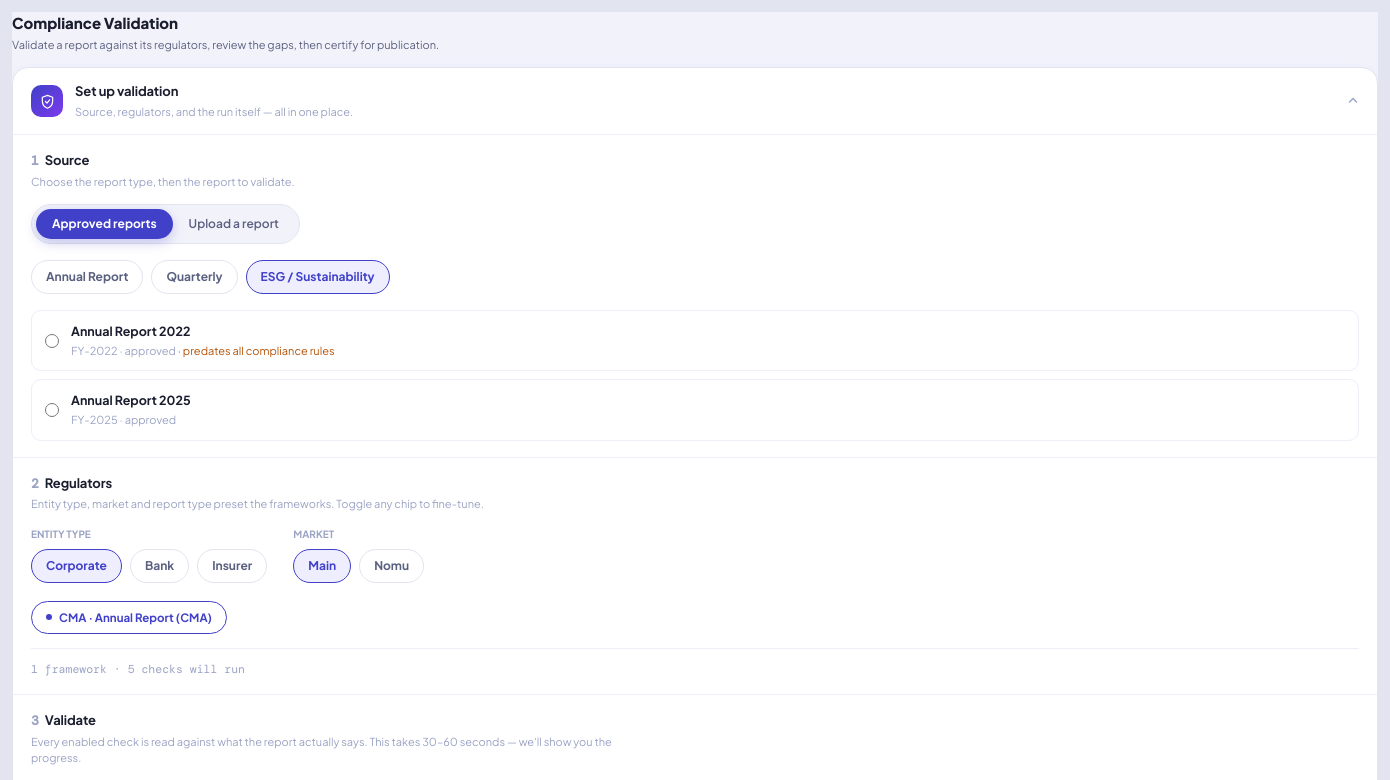
Test: pre-2024 reports get consent, not validation › mirrors the picked subject's period into the pickers
Expected: the text "Annual Report 2022" is shown, top-left (71, 323), bottom-right (190, 339)
Click the radio button labelled "Annual Report 2025 FY-2025 · approved".
click(52, 410)  # box top-left (45, 403), bottom-right (59, 417)
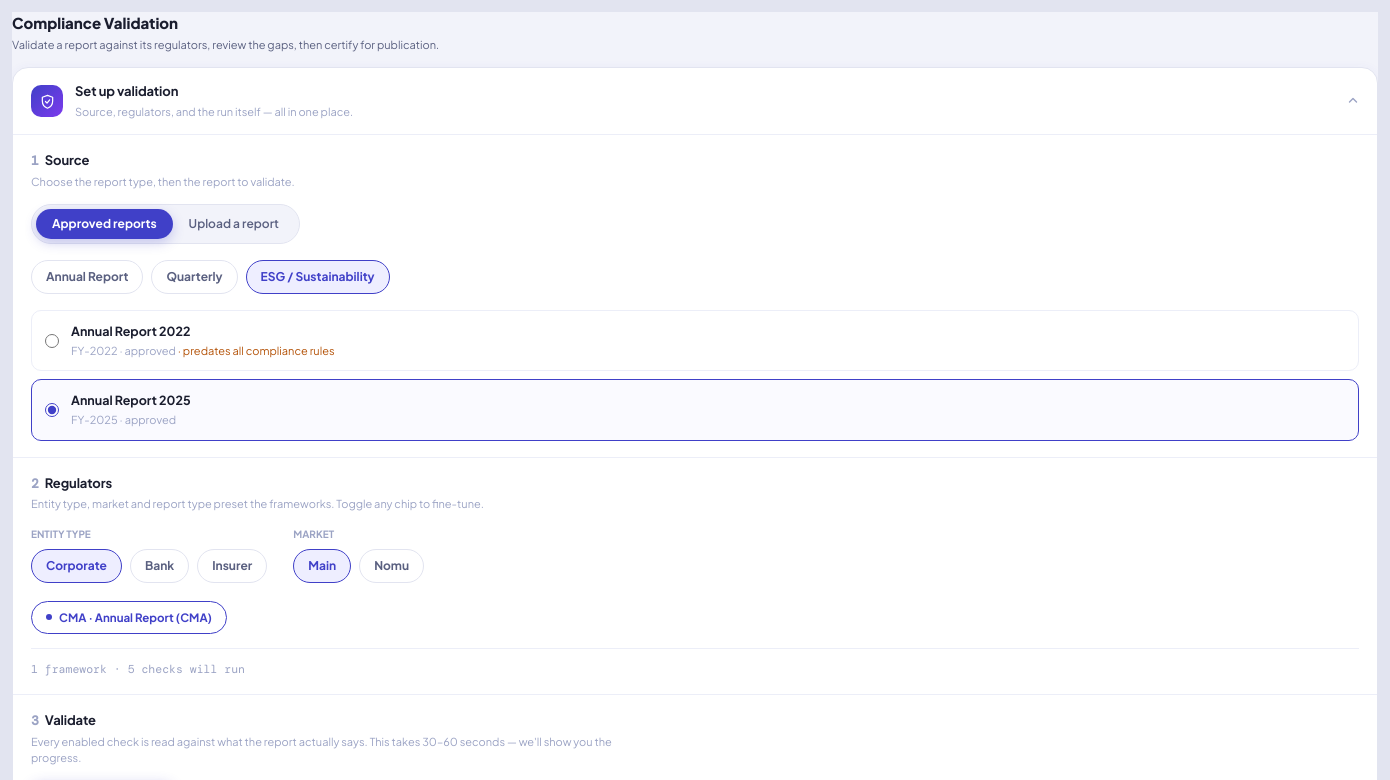
Click the button "Upload a report".
click(234, 224)  # box top-left (173, 209), bottom-right (295, 239)
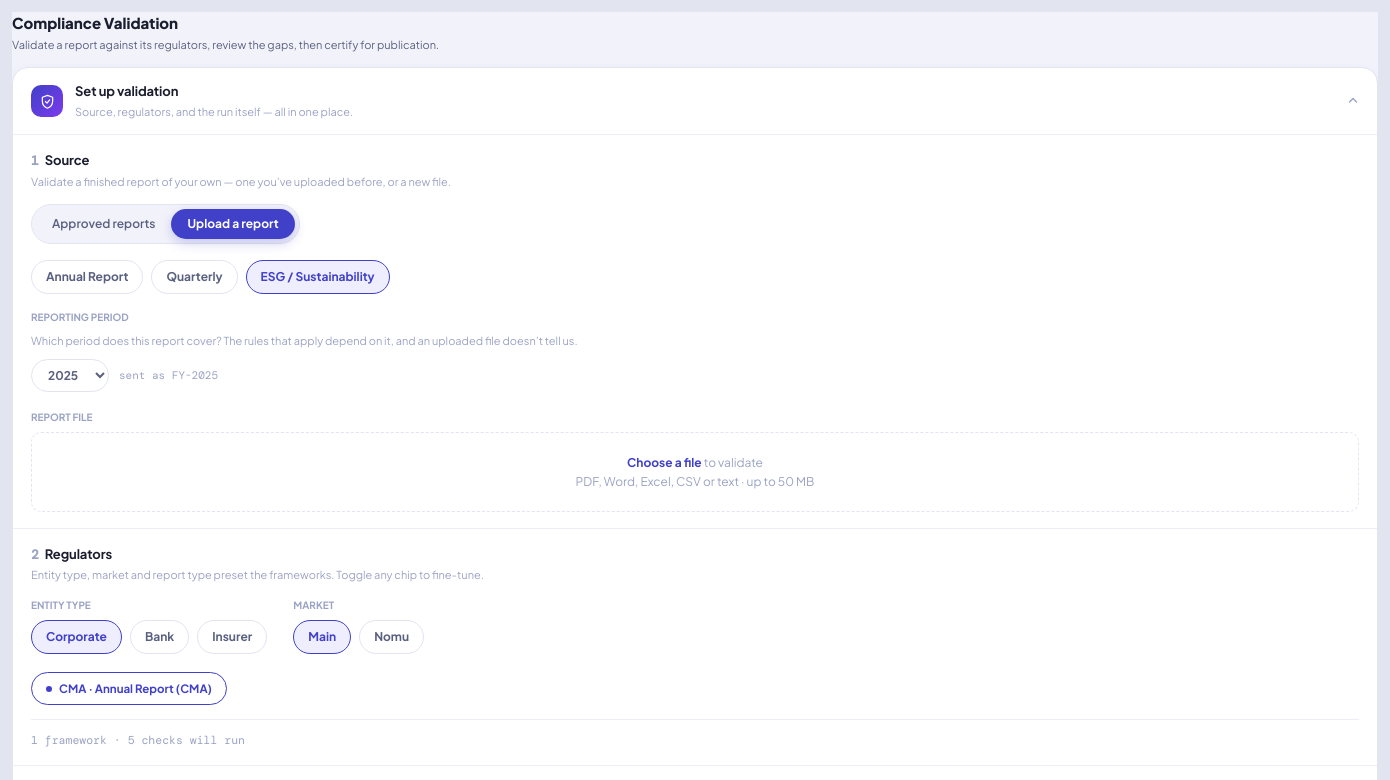
Result: the dropdown shows "2025" at top-left (31, 359), bottom-right (109, 392)
